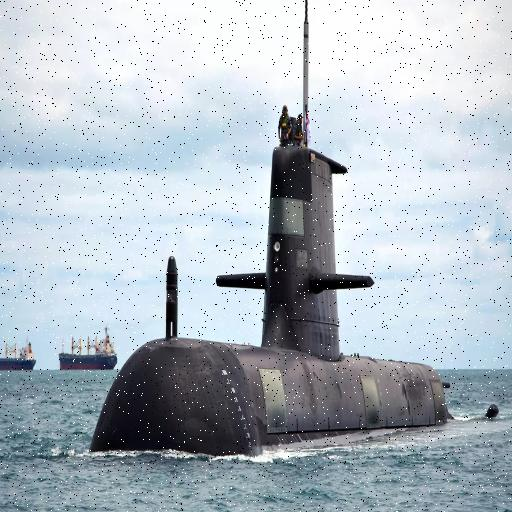submarine: (86, 1, 506, 466)
